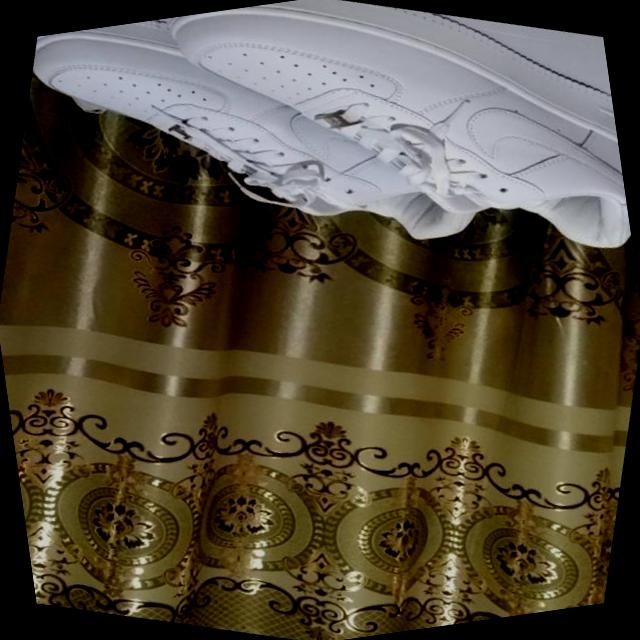nike_fake_airforce: (0, 0, 561, 319), (112, 0, 635, 327)
